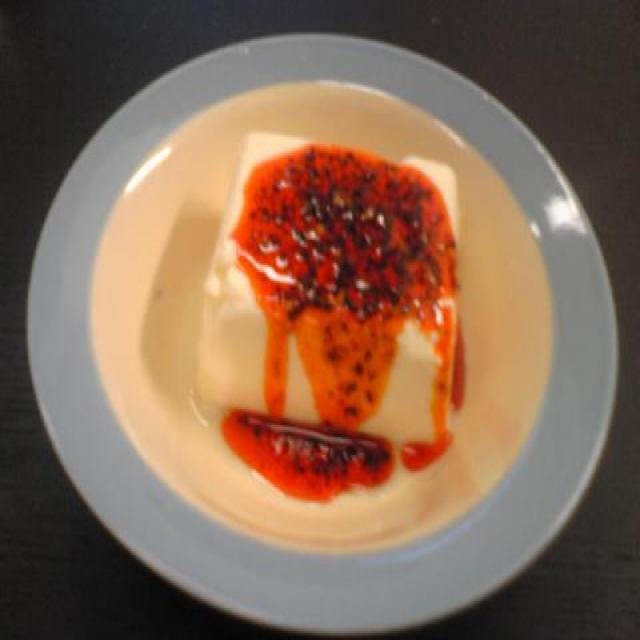豆腐料理: (192, 112, 464, 460)
